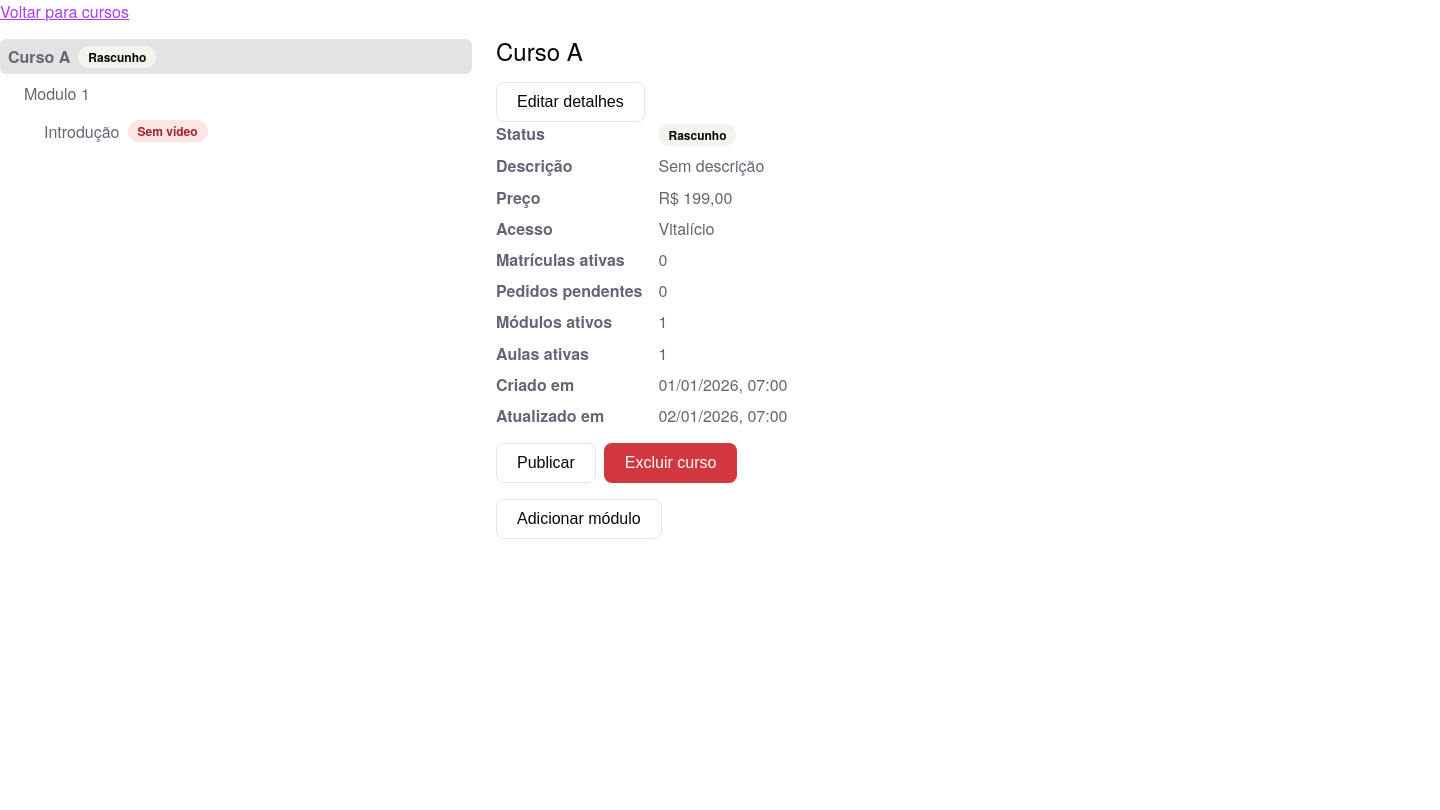
deleting a course › suggests archiving when the course has sales
Click the button "Excluir curso" at (671,463), box [604, 443, 737, 483]
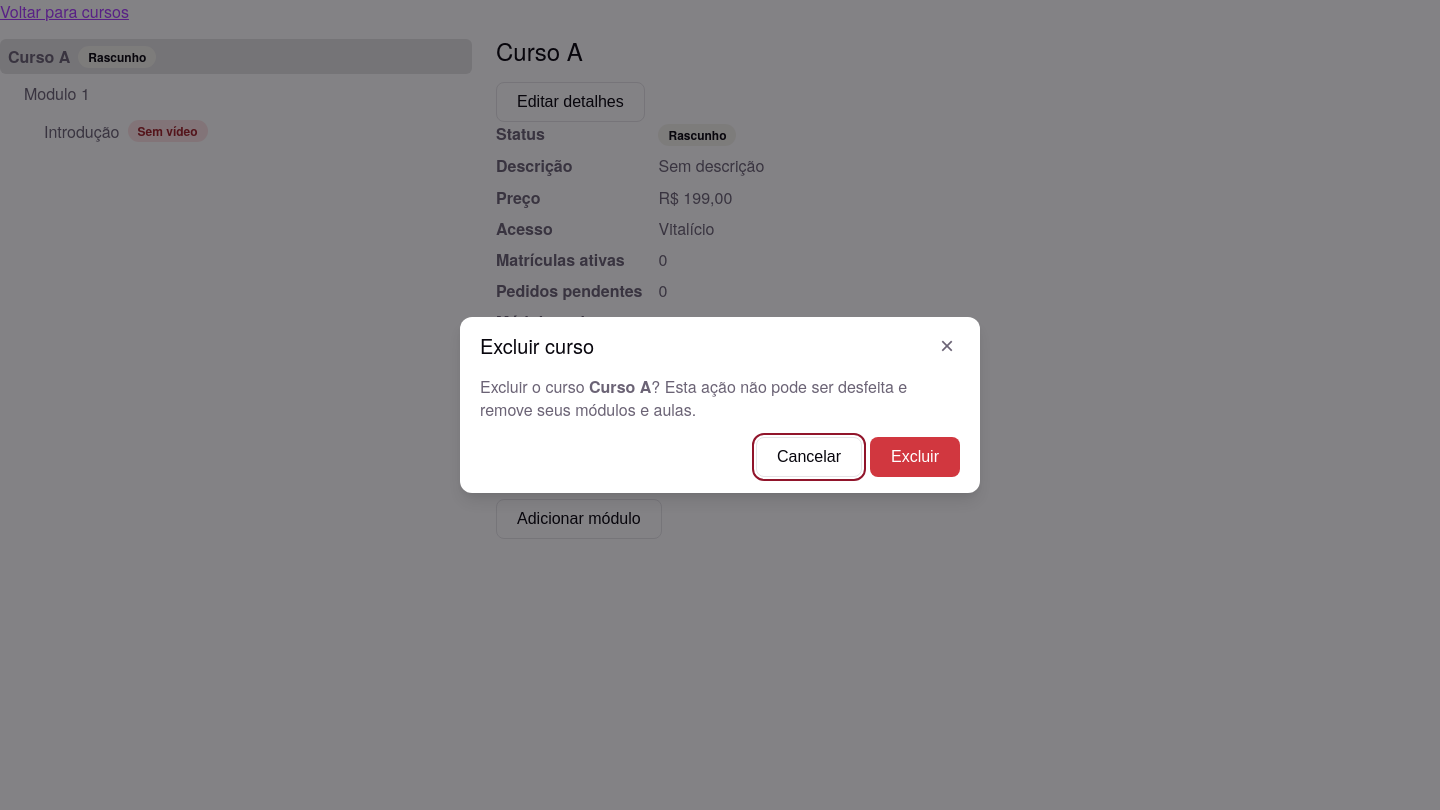
Click the button "Excluir" at (915,457), box [870, 437, 960, 477]
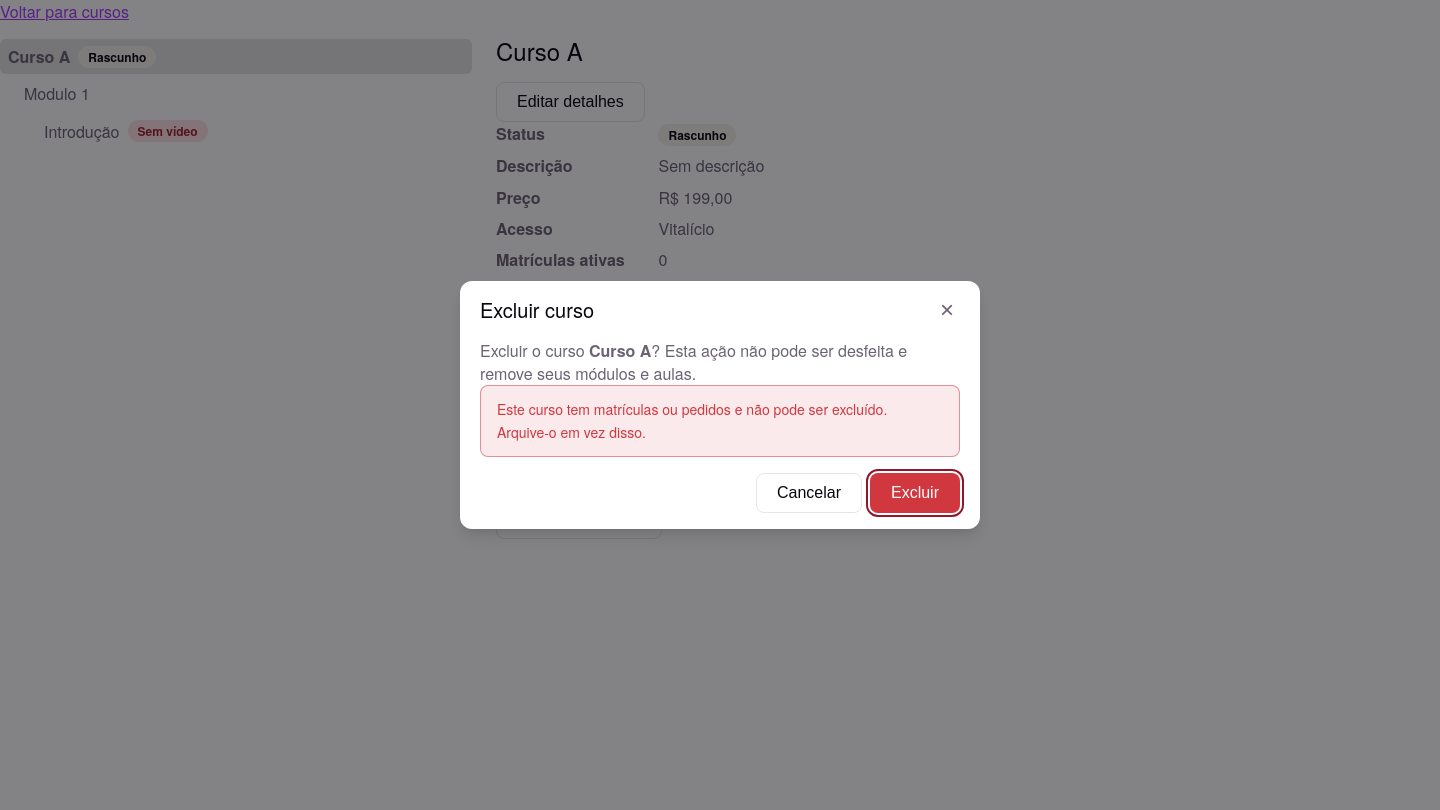
Now the message shows "Arquive", box [497, 399, 887, 442]
